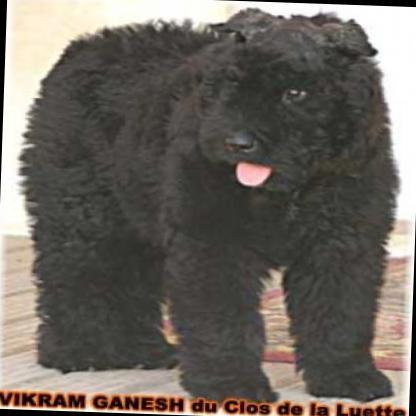Bouvier_des_Flandres: (6, 0, 414, 403)
